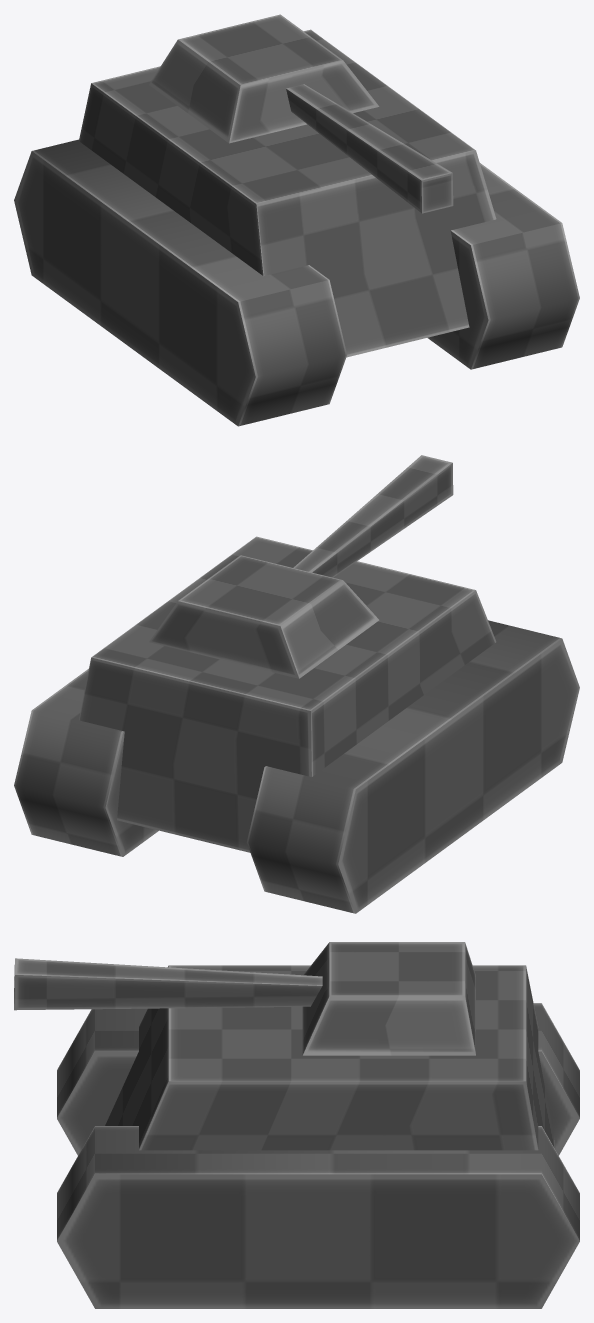
Rendered from tank84.FBX.
3 views of the same model, one above another, from view 1: azimuth 30°, elevation 25°; view 2: azimuth 150°, elevation 25°; view 3: azimuth 270°, elevation 25° (orthographic). The views are drawn at different scales.
Parts seen in each view (by area): view 1: vehicle, trackR, trackL, turret, canon; view 2: vehicle, trackR, turret, trackL, canon; view 3: trackL, vehicle, turret, canon, trackR.
Part boxes in pixels (box(x1,y1,x2,y2)): vehicle: box(79, 29, 496, 357); trackR: box(14, 139, 346, 426); trackL: box(427, 163, 579, 369); turret: box(149, 14, 379, 143); canon: box(286, 84, 453, 213); vehicle: box(79, 536, 496, 852); trackR: box(246, 620, 579, 913); turret: box(149, 555, 379, 678); trackL: box(14, 668, 158, 856); canon: box(293, 455, 453, 577); trackL: box(57, 1126, 579, 1308); vehicle: box(105, 965, 554, 1150); turret: box(302, 942, 475, 1055); canon: box(14, 958, 322, 1010); trackR: box(57, 1003, 579, 1155).
Size of the model in its own units: 70.88 by 49.56 by 99.06.
